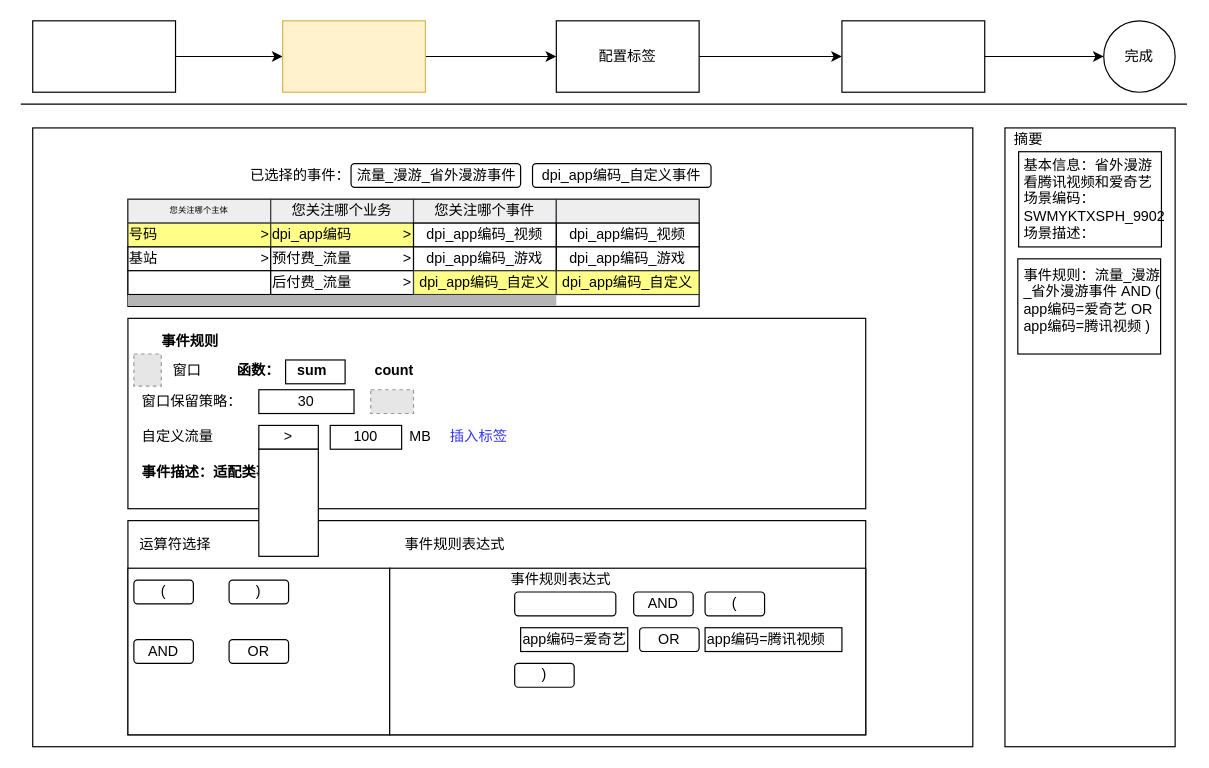
Image size: 1209x768. Some labels were removed from this diagram. Grey dashed boxes stand in for pictures. Here are the shapes that lost their labels. From the top down, the box of each, then its label:
(32, 20, 176, 92): 场景基本信息
(281, 20, 425, 92): 配置事件规则
(841, 20, 985, 92): 配置 消息格式
(127, 270, 271, 295): APP >
(258, 448, 318, 556): = != > < in not in
(513, 591, 616, 616): 漫游=省外漫游
